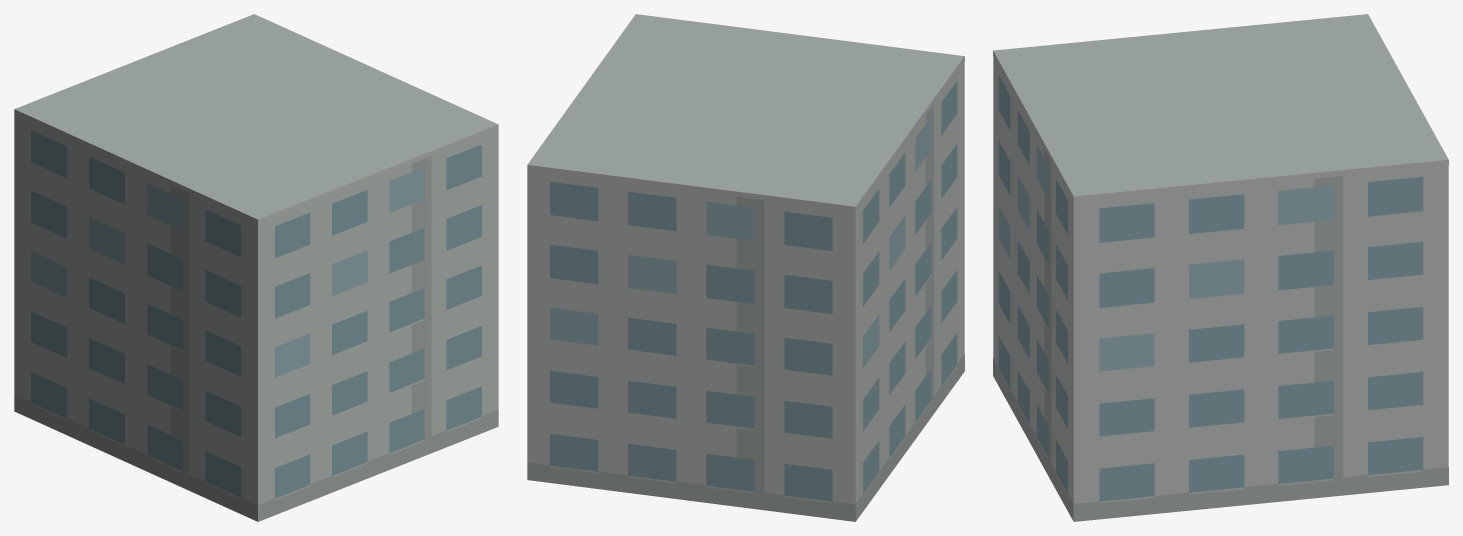
Rendered from survey-upis-32806881.glb.
The picture shows the model from 3 angles, left to right: view 1: azimuth 30°, elevation 25°; view 2: azimuth 150°, elevation 25°; view 3: azimuth 270°, elevation 25°; orthographic projection. The views are drawn at different scales.
Visible parts, largest first — view 1: survey-upis-32806881.tmp; view 2: survey-upis-32806881.tmp; view 3: survey-upis-32806881.tmp.
Part boxes in pixels (x1,y1,x2,y2): survey-upis-32806881.tmp: (14, 14, 498, 521); survey-upis-32806881.tmp: (527, 14, 964, 521); survey-upis-32806881.tmp: (993, 14, 1448, 521).
Size of the model in its own units: 17.45 by 14.5 by 18.42.
